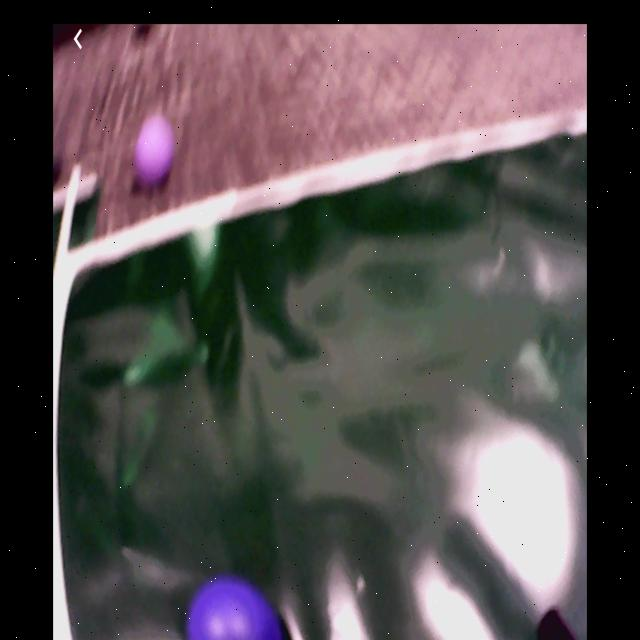ball: (188, 580, 281, 640), (135, 118, 176, 186)
